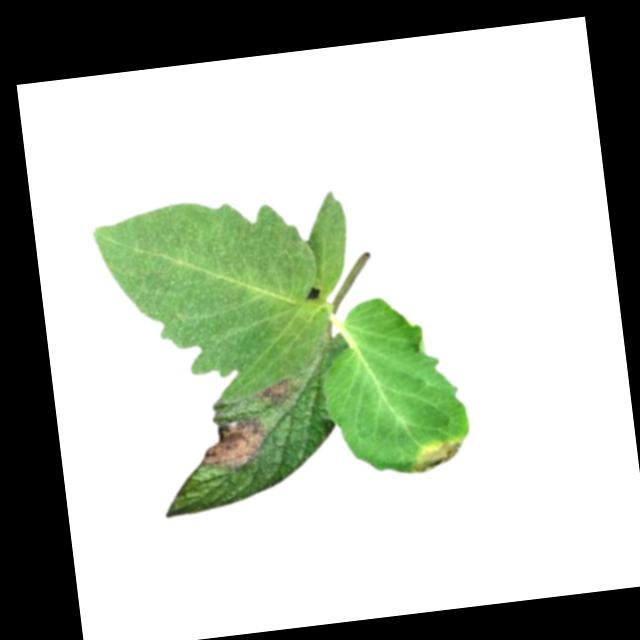Late_blight: (195, 411, 271, 475), (409, 435, 469, 476), (254, 376, 296, 407)
healthy: (89, 185, 343, 417)
